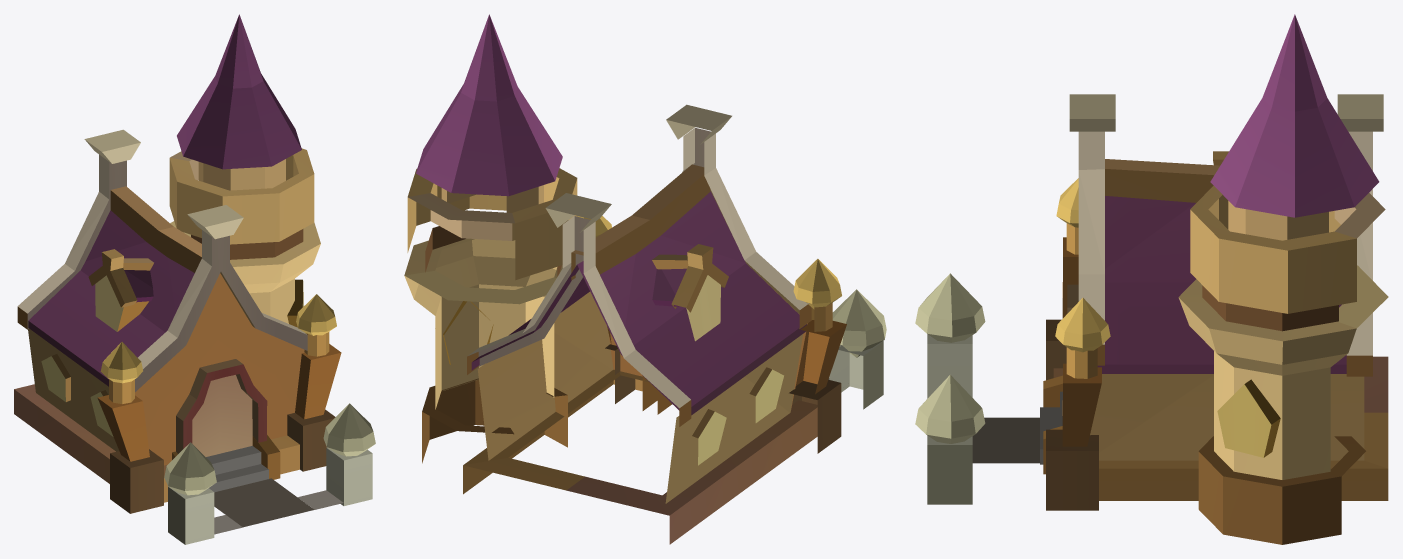
Rendered from building36.fbx.
3 views of the same model, side by side, from view 1: azimuth 30°, elevation 25°; view 2: azimuth 150°, elevation 25°; view 3: azimuth 270°, elevation 25° (orthographic). The views are drawn at different scales.
Visible parts, largest first — view 1: building36; view 2: building36; view 3: building36.
Part boxes in pixels (box(x1,y1,x2,y2)): building36: box(14, 14, 375, 544); building36: box(404, 14, 886, 544); building36: box(915, 14, 1388, 544).
Size of the model in its own units: 1.79 by 2.28 by 1.97.
1 material, 1 textured.
